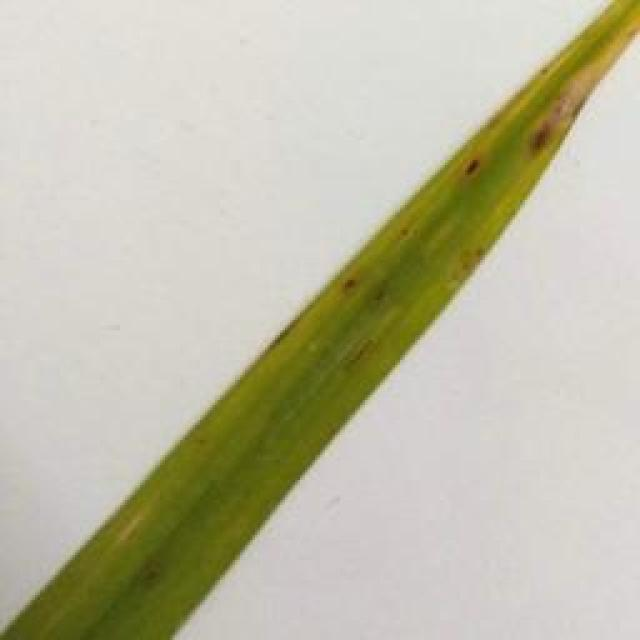Brown_Spot: (514, 98, 576, 164), (337, 271, 366, 307), (467, 145, 487, 194), (396, 208, 418, 243)
